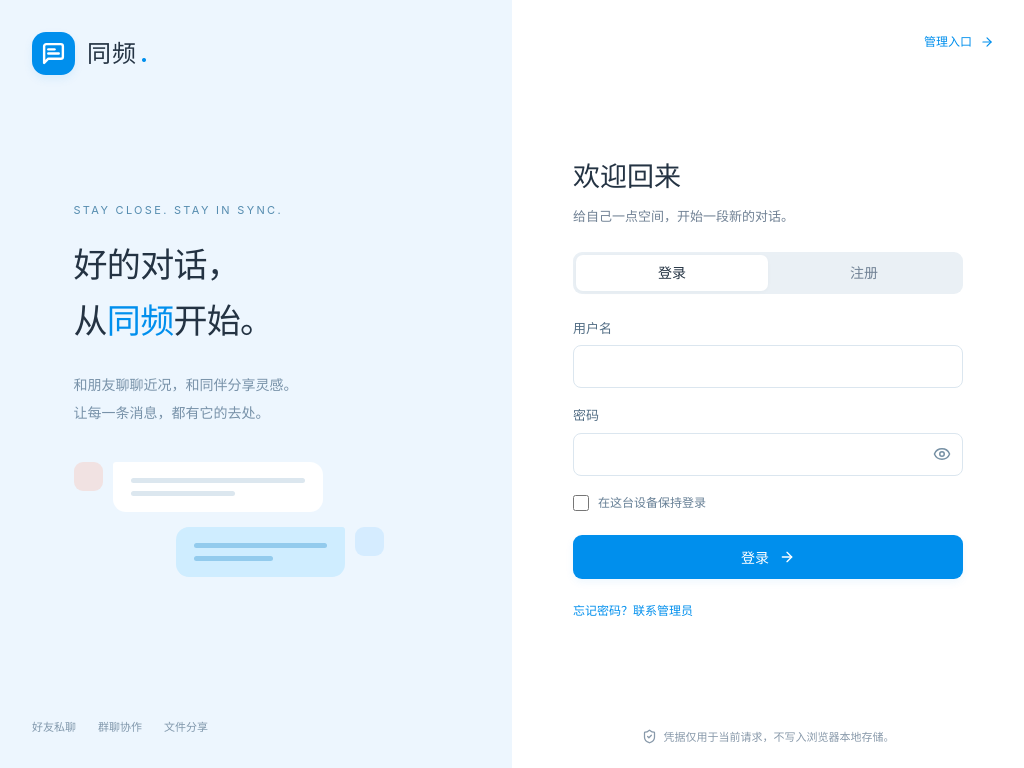
M2 authentication UI › keeps login and recovery available when registration is closed
Click the button "注册": [864, 273] box x1=768 y1=255 x2=960 y2=291
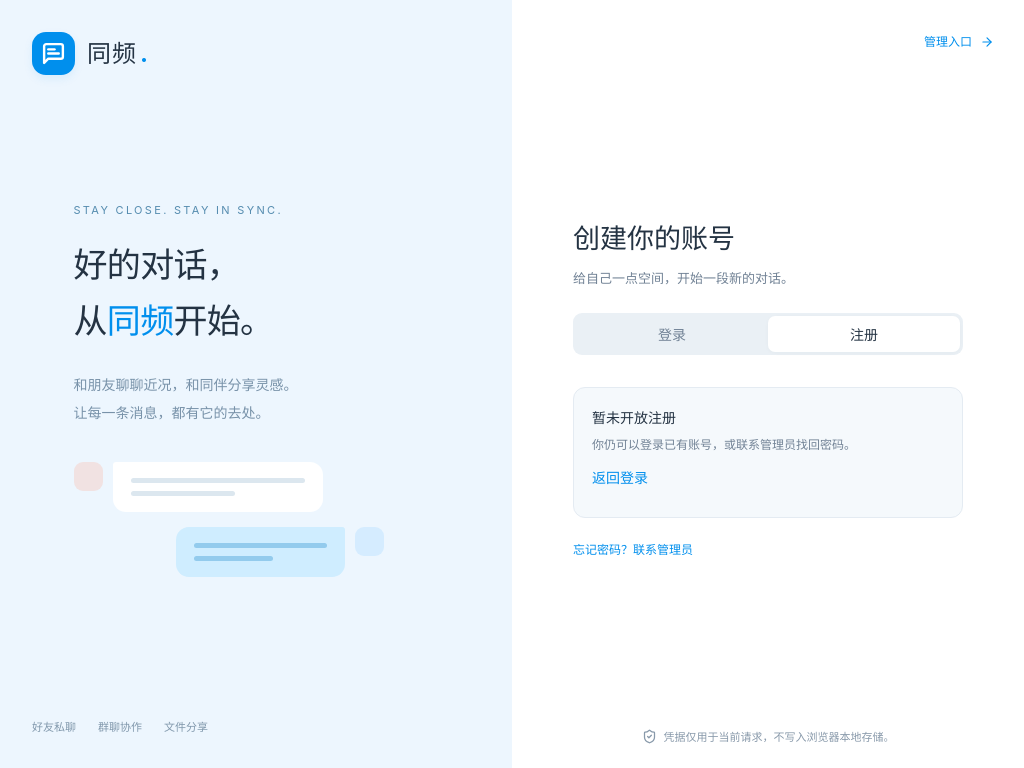
Now the heading "暂未开放注册" is shown, box x1=592 y1=409 x2=676 y2=426
Click the button "忘记密码？联系管理员": [633, 550] box x1=573 y1=530 x2=693 y2=570
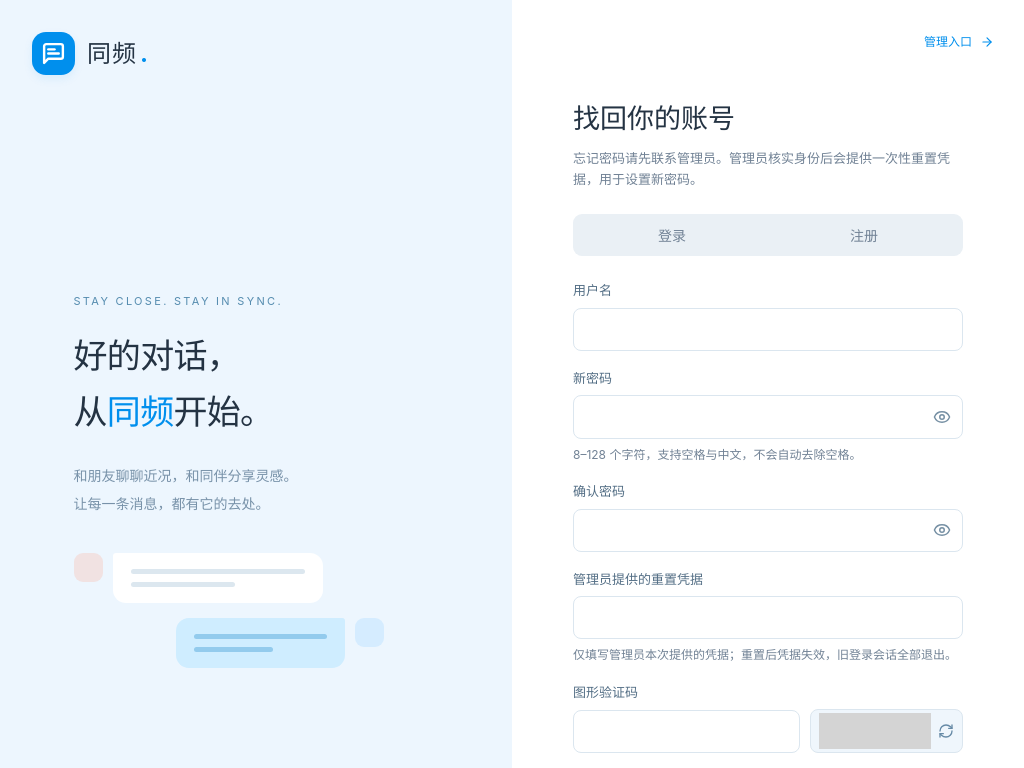
Now the heading "找回你的账号" is shown, box x1=573 y1=102 x2=735 y2=135
Now the field labelled "管理员提供的重置凭据" is shown, box x1=573 y1=596 x2=963 y2=639
